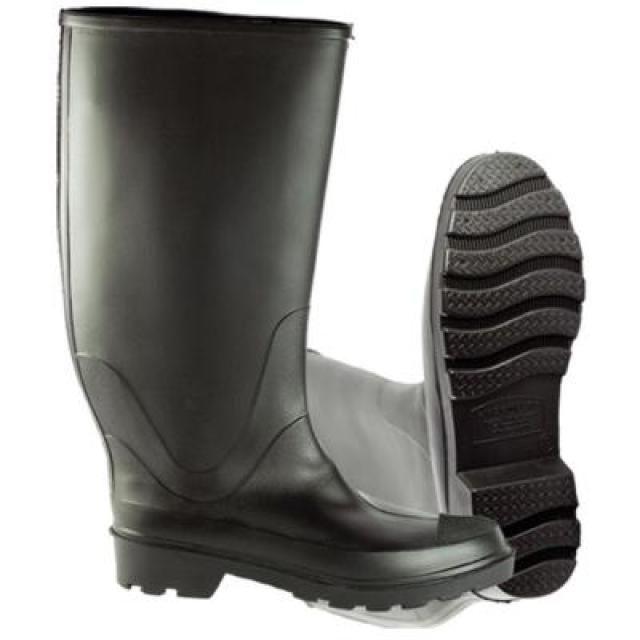boot: (20, 12, 523, 605)
